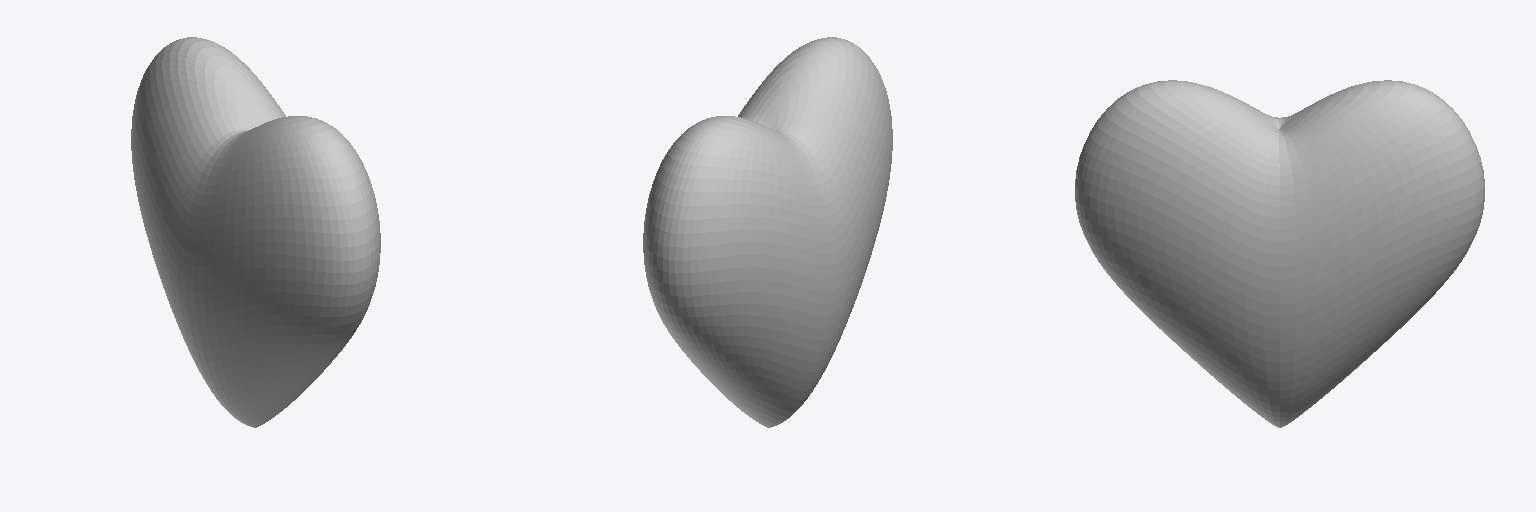
Rendered from Heart.obj.
3 views of the same model, side by side, from view 1: azimuth 30°, elevation 25°; view 2: azimuth 150°, elevation 25°; view 3: azimuth 270°, elevation 25° (orthographic).
Parts seen in each view (by area): view 1: Heart; view 2: Heart; view 3: Heart.
Part boxes in pixels (x1,y1,x2,y2): Heart: (131, 37, 380, 427); Heart: (643, 37, 892, 427); Heart: (1075, 80, 1484, 427).
Bounding box in the file's own units: 0.5995 × 1.39 × 1.5.